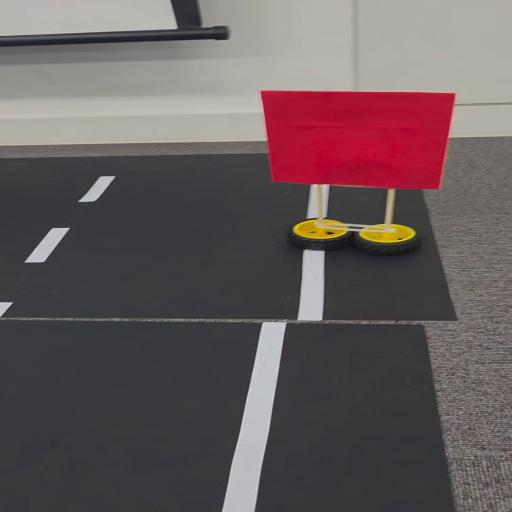Sign_A: (246, 84, 464, 260)
